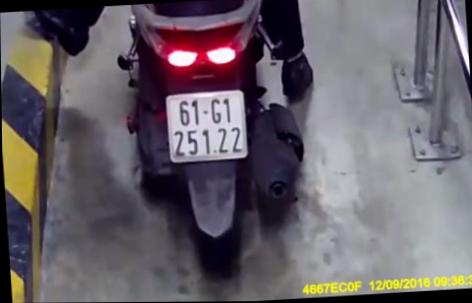LP: (165, 91, 248, 162)
